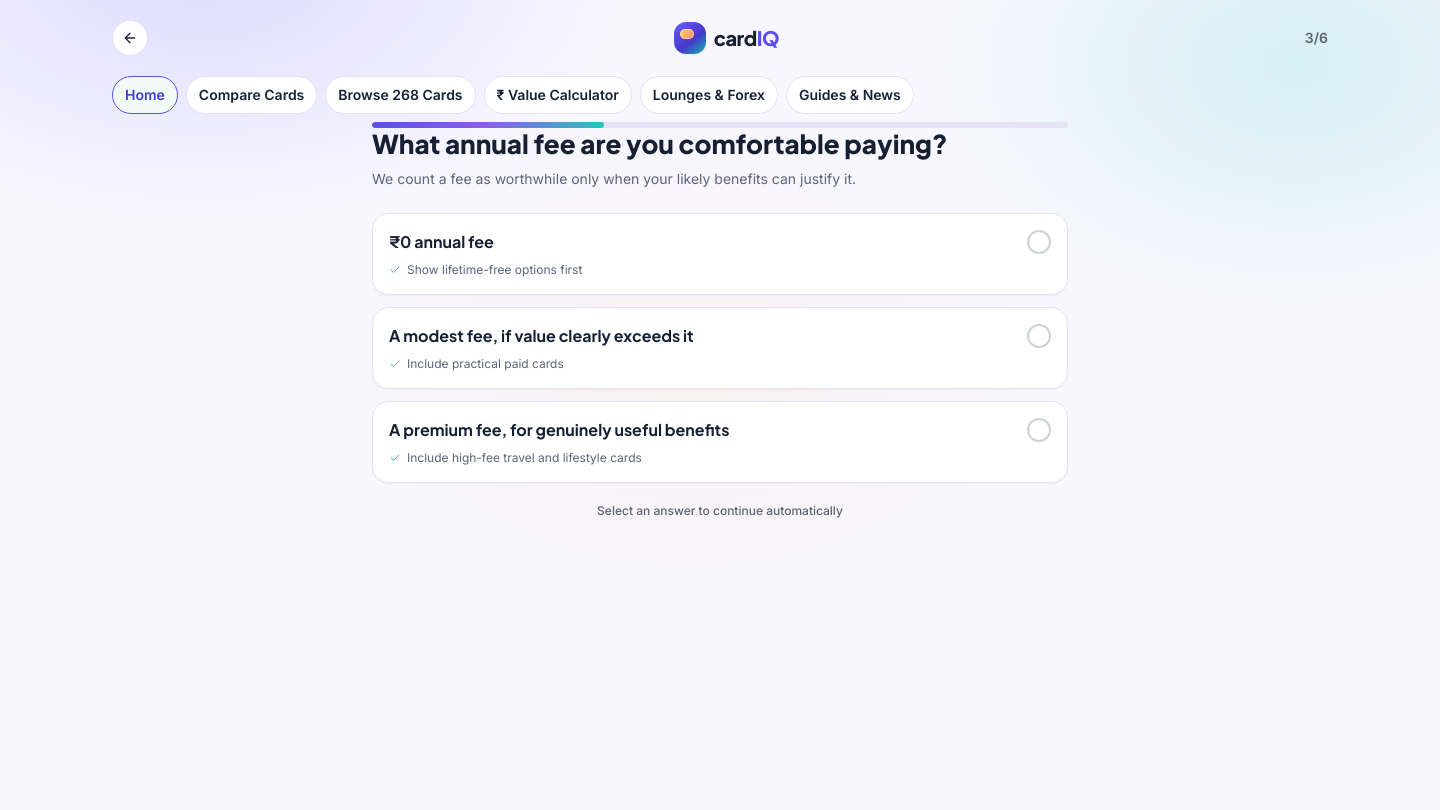
it: Quiz journey › restores saved progress and can move back
This screenshot has width=1440, height=810.
Click the 1st button.
click(130, 38)  # box left=112, top=20, right=148, bottom=56
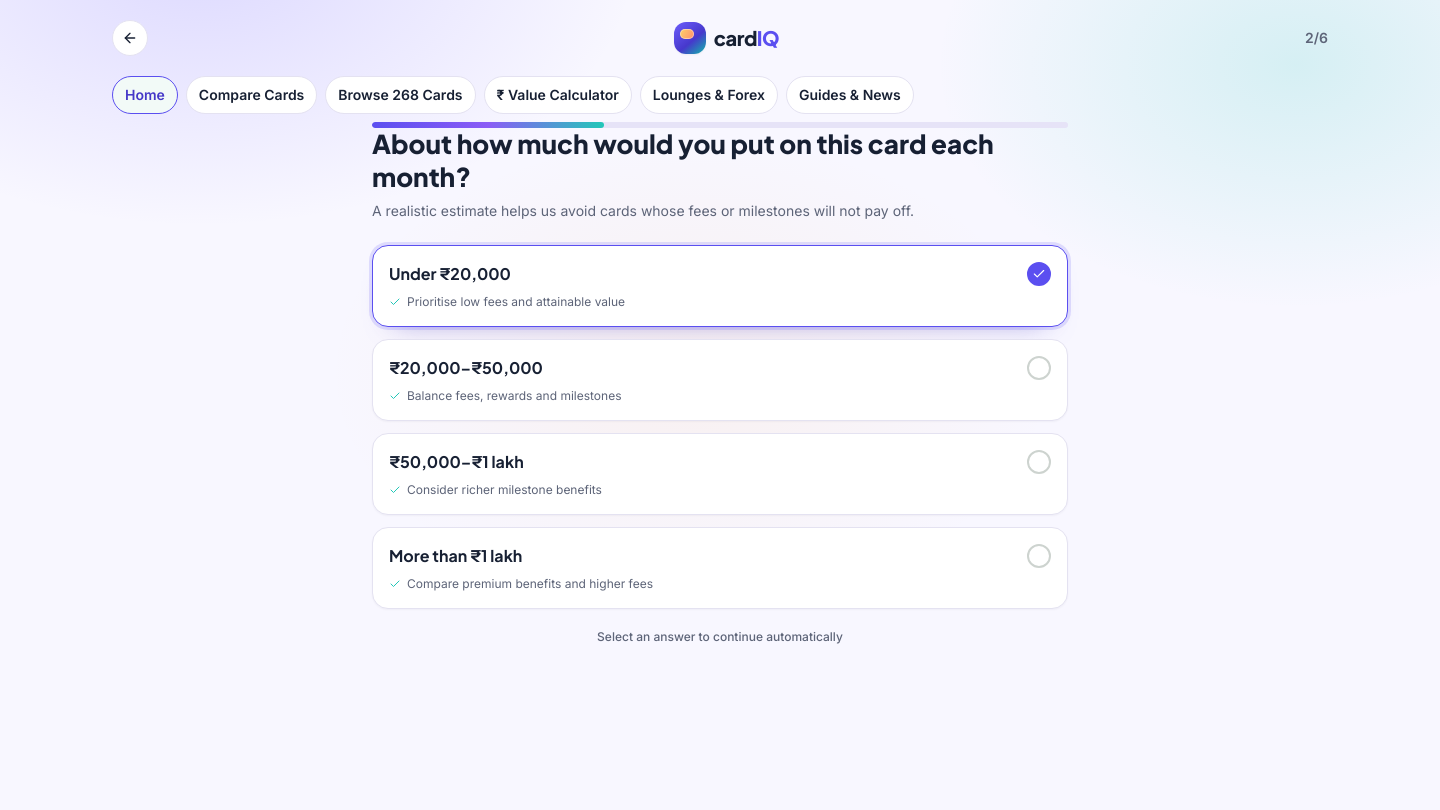
Now the text "2/6" is shown, box left=1305, top=28, right=1328, bottom=48
